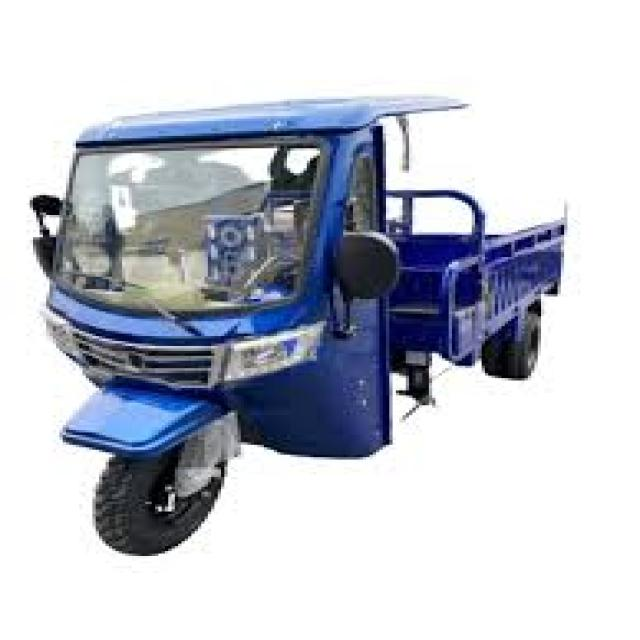tuktuk: (2, 8, 609, 593)
